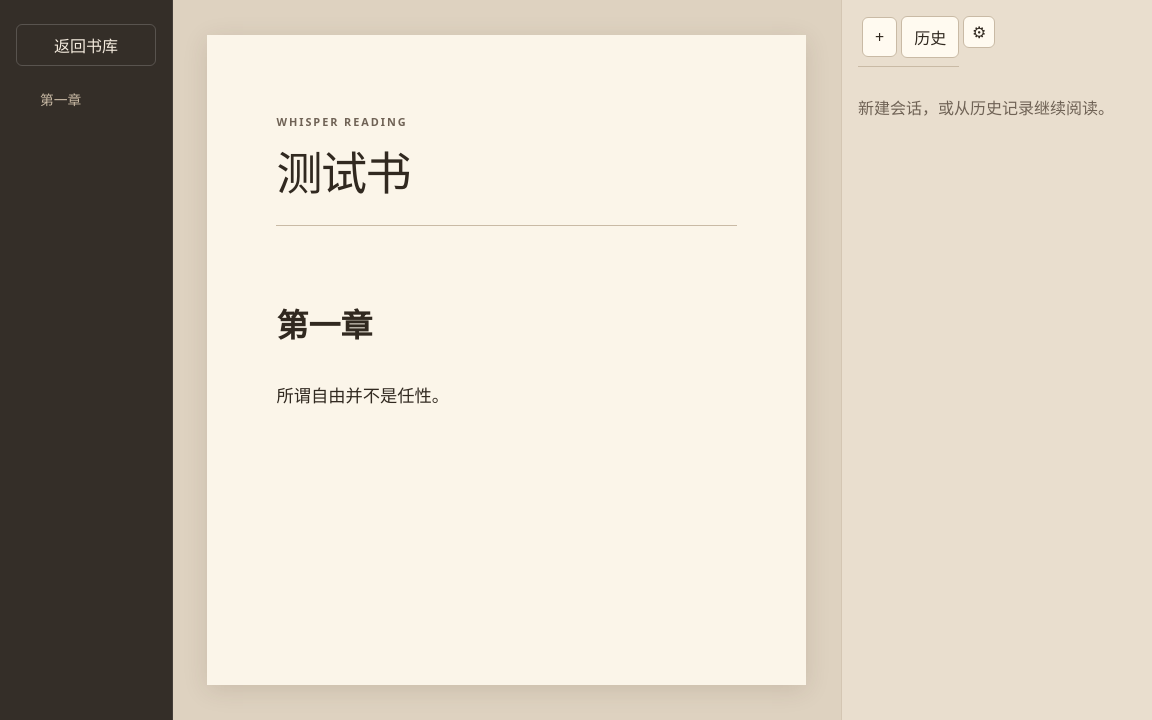
ReaderPage 会话编排 › 草稿打开时自动同步新选区并保留输入
The image size is (1152, 720).
Click the button named "新建会话" at (880, 37), box [862,17,897,57]
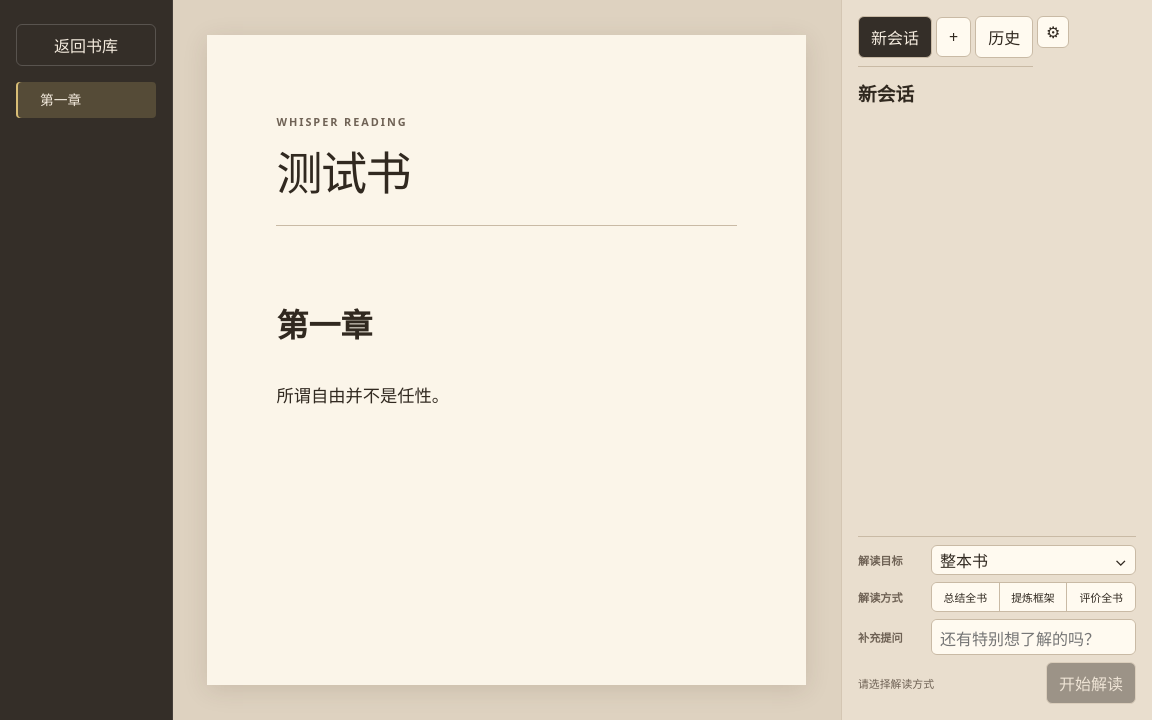
Type "这句话是什么意思？" into the text box with placeholder "还有特别想了解的吗？（可选）" at (1034, 637), box [931,619,1136,655]
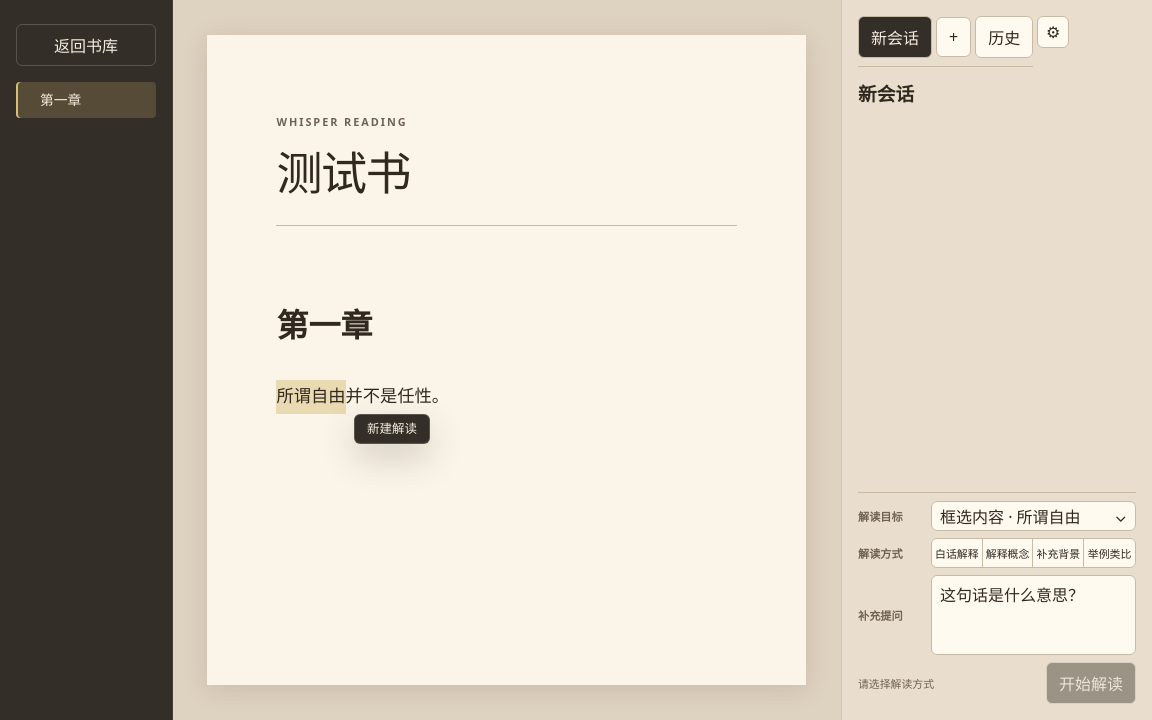
Result: the button "框选内容 · 所谓自由 ⌄" is shown at [931,501,1136,531]
